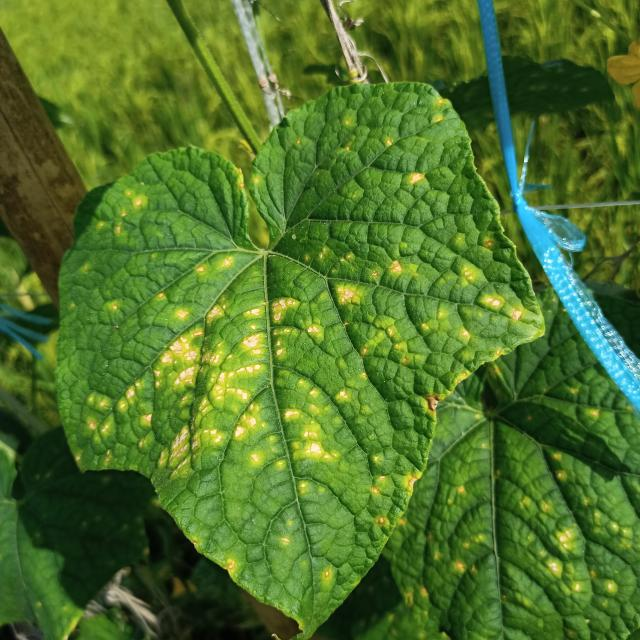disease_cucumber: (68, 118, 491, 571)
